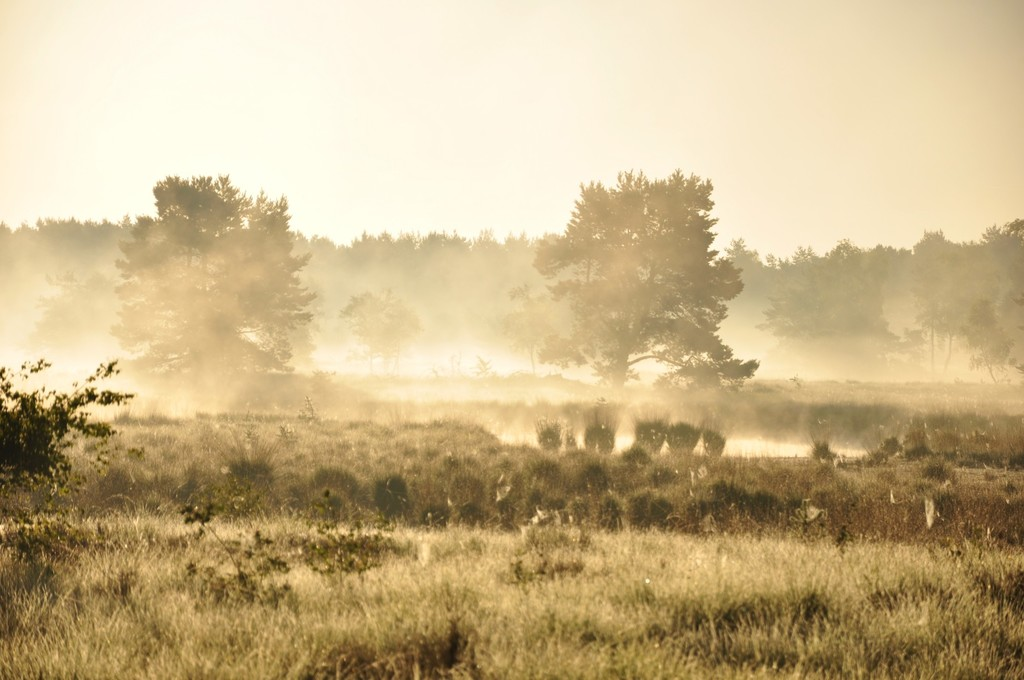Tree: (65, 141, 332, 464), (533, 165, 761, 393), (714, 222, 1023, 381), (280, 231, 566, 377), (0, 210, 150, 381)
